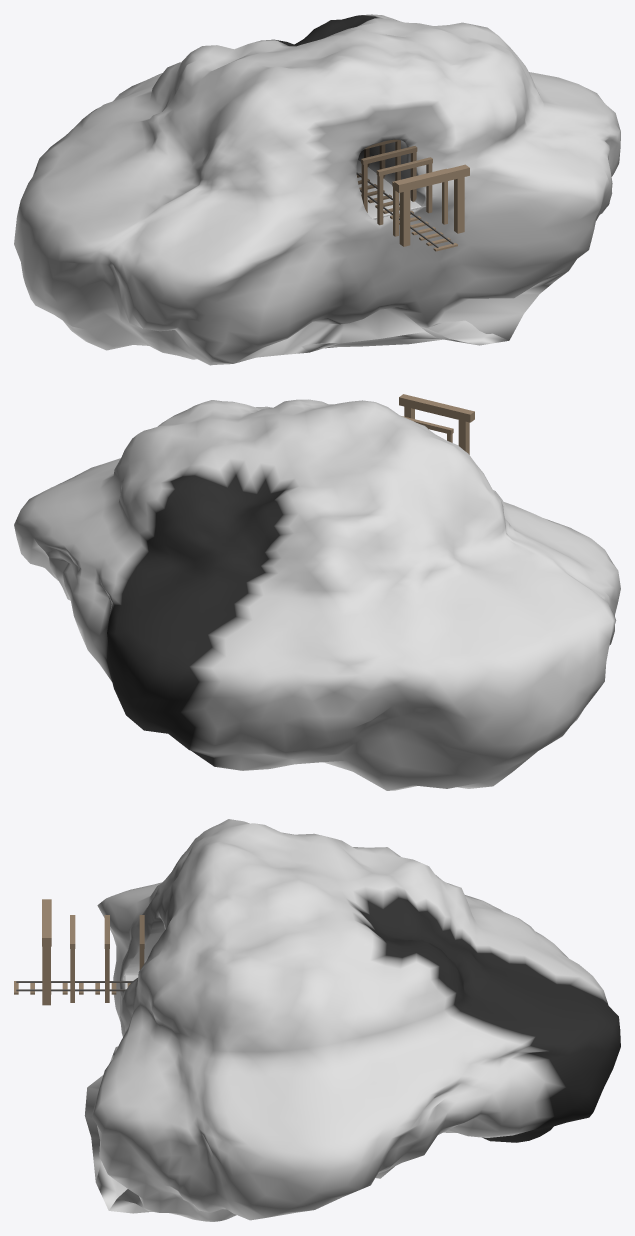
Rendered from mine_portal.glb.
3 views of the same model, one above another, from view 1: azimuth 30°, elevation 25°; view 2: azimuth 150°, elevation 25°; view 3: azimuth 270°, elevation 25° (orthographic). The views are drawn at different scales.
Parts seen in each view (by area): view 1: cave mouth rock-col, portal frame lintel, mouth floor-col, portal frame post, portal frame post.001; view 2: cave mouth rock-col, portal frame lintel; view 3: cave mouth rock-col.
Boxes of the visible parts, x1=… form: cave mouth rock-col: x1=14, y1=14, x2=620, y2=365; portal frame lintel: x1=394, y1=164, x2=469, y2=192; mouth floor-col: x1=356, y1=160, x2=425, y2=219; portal frame post: x1=399, y1=190, x2=410, y2=246; portal frame post.001: x1=454, y1=177, x2=464, y2=233; cave mouth rock-col: x1=14, y1=399, x2=620, y2=790; portal frame lintel: x1=399, y1=394, x2=474, y2=422; cave mouth rock-col: x1=84, y1=819, x2=620, y2=1221.
Bounding box in the file's own units: 33.33 × 16.48 × 28.
